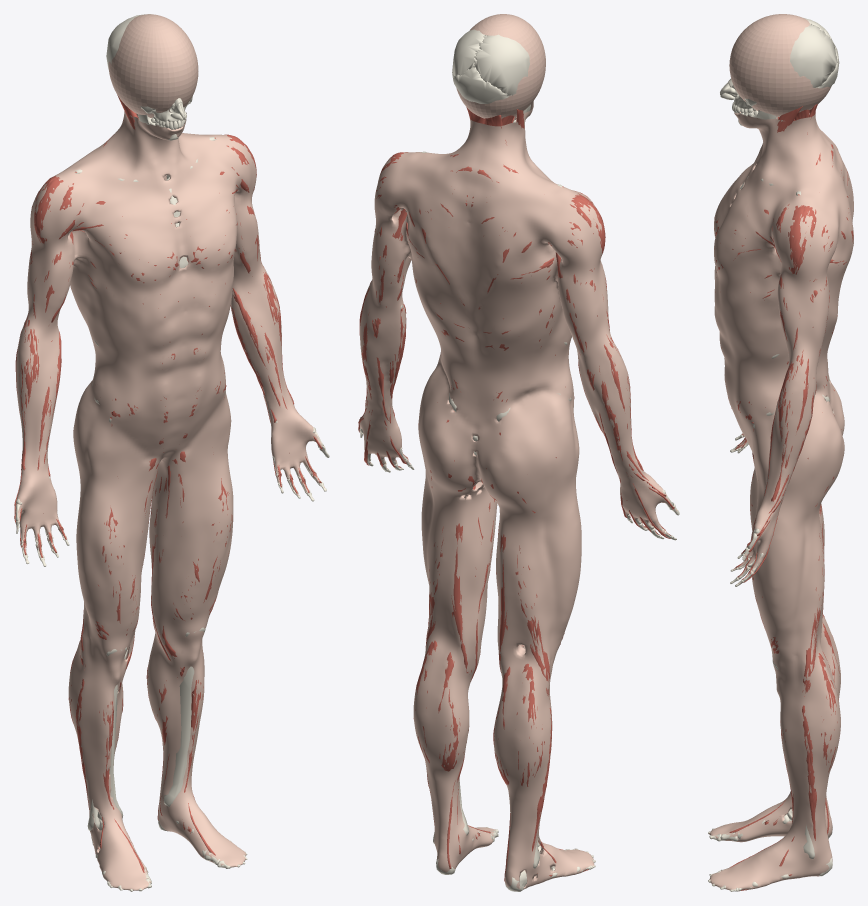
File: body_gym.glb
The picture shows the model from 3 angles, left to right: view 1: azimuth 30°, elevation 25°; view 2: azimuth 150°, elevation 25°; view 3: azimuth 270°, elevation 25°; orthographic projection.
Visible parts, largest first — view 1: Body shell (derived), Tibia.l.001, Brachioradialis muscle.r.001, Acromial part of deltoid muscle.r.001; view 2: Body shell (derived), Parietal bone.r.001, Occipital bone.001, Parietal bone.l.001, Semitendinosus muscle.l.001, Medial head of gastrocnemius.l.001, Long head of biceps femoris.r.001, Extensor digitorum.r.001; view 3: Body shell (derived), Parietal bone.l.001, Acromial part of deltoid muscle.l.001, Fibularis longus muscle.l.001, Brachioradialis muscle.l.001, Long head of biceps femoris.l.001, Lateral head of gastrocnemius.l.001.
Part boxes in pixels (<box>): Body shell (derived): <box>15,14,324,890</box>; Tibia.l.001: <box>164,666,194,806</box>; Brachioradialis muscle.r.001: <box>19,314,39,470</box>; Acromial part of deltoid muscle.r.001: <box>34,176,63,243</box>; Body shell (derived): <box>359,14,677,890</box>; Parietal bone.r.001: <box>474,34,529,96</box>; Occipital bone.001: <box>453,67,508,103</box>; Parietal bone.l.001: <box>452,29,486,80</box>; Semitendinosus muscle.l.001: <box>451,523,468,673</box>; Medial head of gastrocnemius.l.001: <box>438,652,469,771</box>; Long head of biceps femoris.r.001: <box>515,545,549,696</box>; Extensor digitorum.r.001: <box>599,366,665,535</box>; Body shell (derived): <box>709,14,853,890</box>; Parietal bone.l.001: <box>790,24,837,87</box>; Acromial part of deltoid muscle.l.001: <box>788,205,816,274</box>; Fibularis longus muscle.l.001: <box>802,696,816,840</box>; Brachioradialis muscle.l.001: <box>771,350,803,501</box>; Long head of biceps femoris.l.001: <box>802,533,824,693</box>; Lateral head of gastrocnemius.l.001: <box>818,653,839,772</box>.
Bounding box in the file's own units: 0.6692 × 1.71 × 0.2679.
